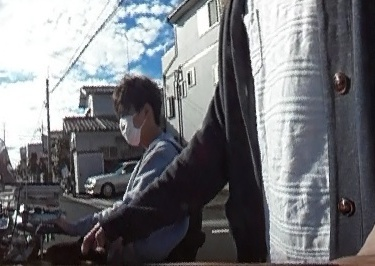person: (49, 76, 191, 263)
